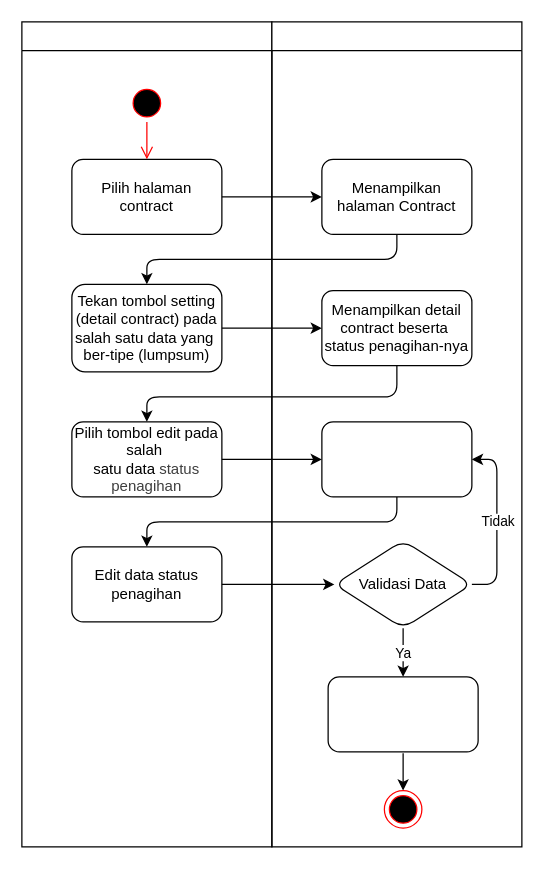
Some shapes in this 544 by 869 pixel diagram are drawn without their labels. The shapes that lost their labels are listed below. From the top down, each one's box as (x1, y1, x2, y2) in pixels, then its label:
(21, 21, 272, 847): User
(271, 21, 522, 847): Sistem
(321, 421, 472, 497): Menampilkan isi formulir edit data status penagihan
(327, 676, 478, 752): Menyimpan perubahan data status penagihan
